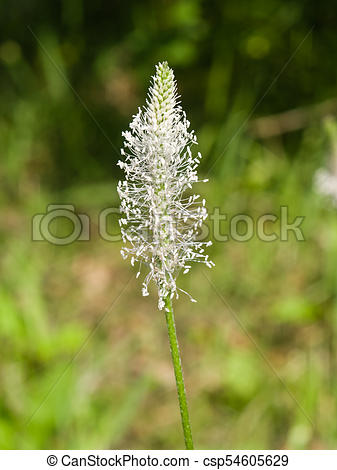buckhorn plantain: (99, 49, 232, 381)
